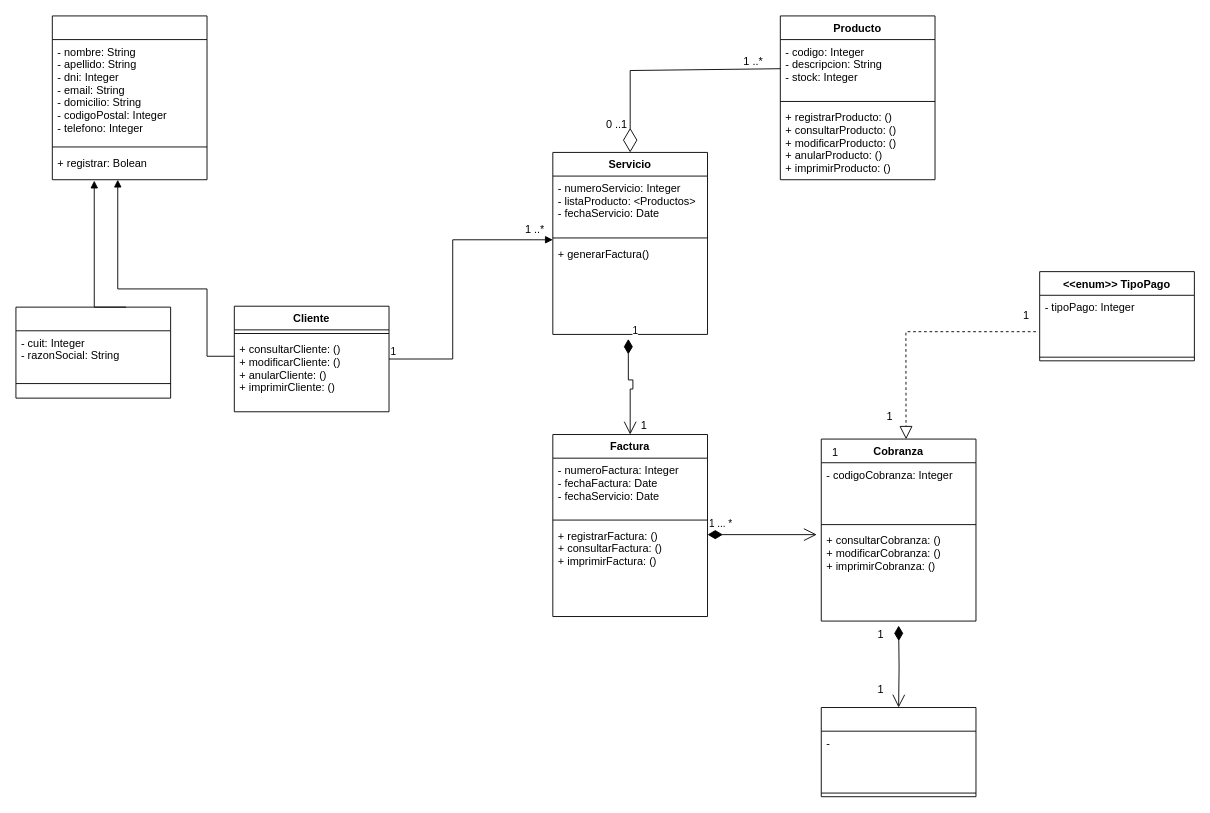
Image size: 1210x813. Some labels were removed from this diagram. Here are the shapes that lost their labels. From the top down, the box of each, then its label:
(51, 15, 207, 180): Usuario
(15, 306, 171, 398): Comercio
(820, 707, 976, 797): Recibo
